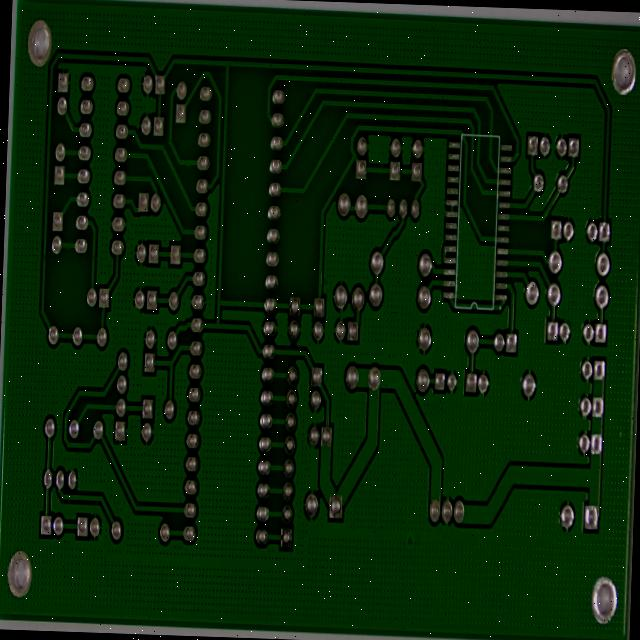spur: (114, 17, 126, 41), (155, 17, 166, 35), (26, 125, 36, 144)
